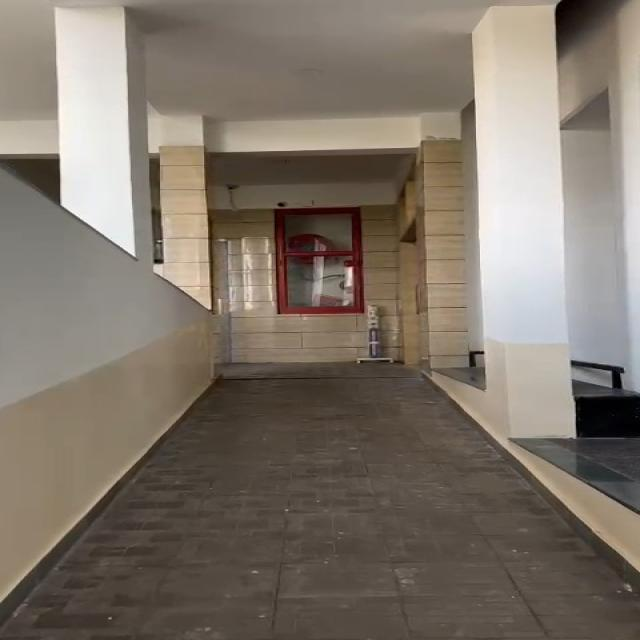floor: (174, 367, 475, 640)
wall: (0, 12, 219, 431), (411, 77, 640, 418)
